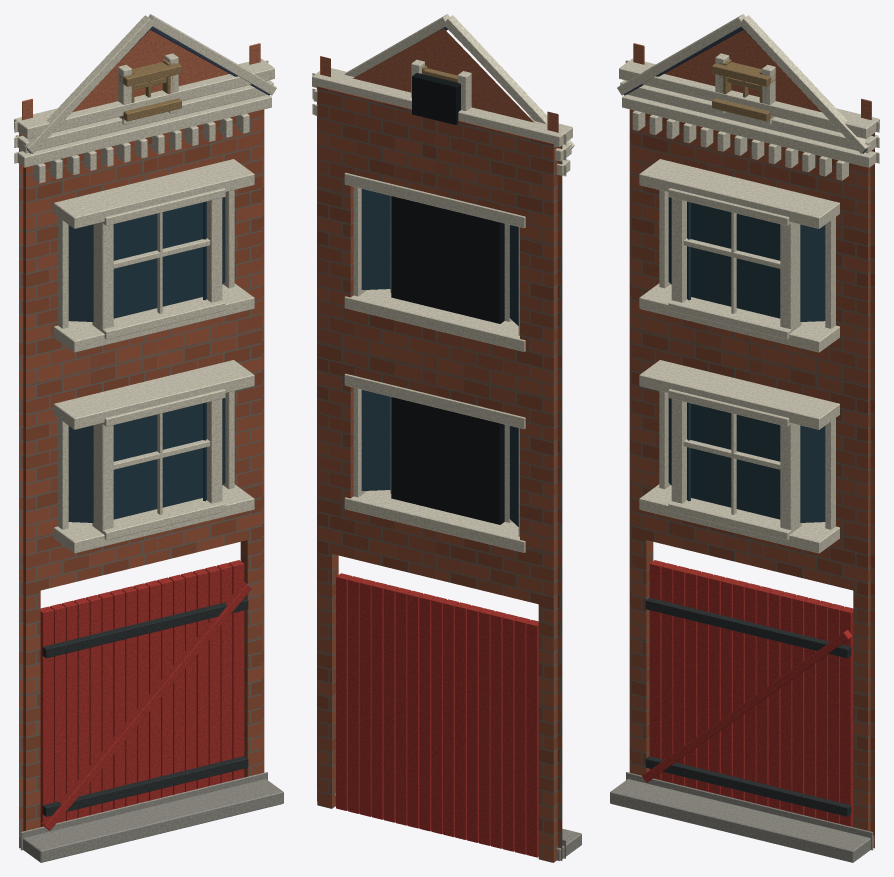
File: VICT6B_lod1.glb
3 renders of one model, left to right at view 1: azimuth 30°, elevation 25°; view 2: azimuth 150°, elevation 25°; view 3: azimuth 330°, elevation 25°, orthographic.
Parts seen in each view (by area): view 1: VICT6B_FRONT_LOD1; view 2: VICT6B_FRONT_LOD1; view 3: VICT6B_FRONT_LOD1.
Boxes of the visible parts, x1,y1,x2,y2 form: VICT6B_FRONT_LOD1: (14,14,283,862); VICT6B_FRONT_LOD1: (312,14,581,862); VICT6B_FRONT_LOD1: (610,14,879,862).
Size of the model in its own units: 3.44 by 10.46 by 0.705.
11 materials, 9 textured.
